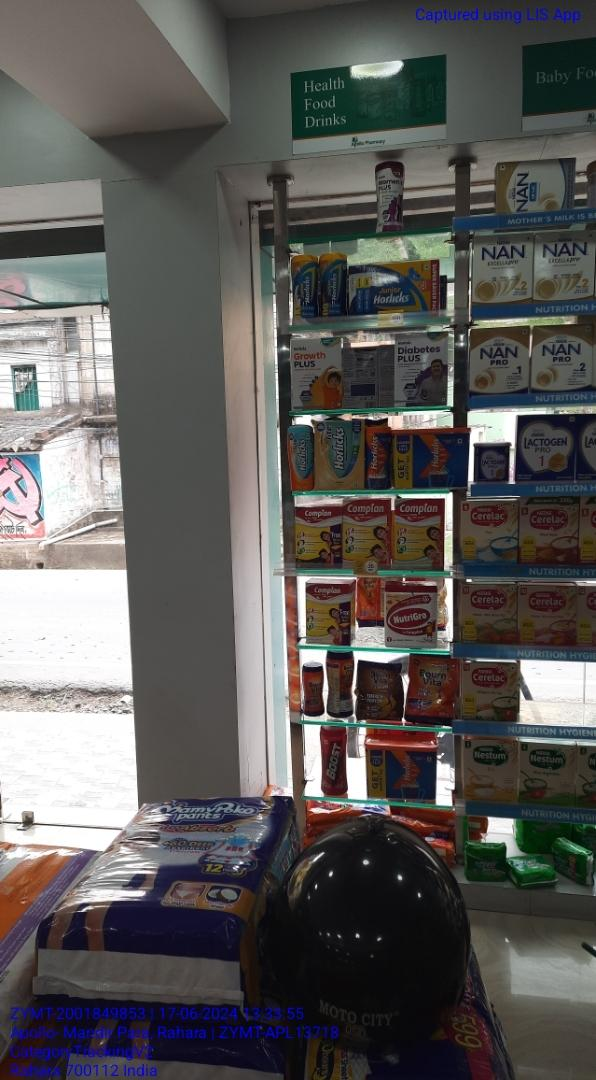BOURN_VITA_200_G_JAR: (303, 663, 324, 716)
BOURN_VITA_500_G_POUCH: (406, 654, 452, 725)
BOURN_VITA_FIVE_STAR_MAGIC_500_G_POUCH: (357, 659, 403, 722)
COMPLAN_CHOCOLATE_500_GMS_PACK: (295, 506, 342, 569)
COMPLAN_CREAMY_CLASSIC_500_G_PACK: (394, 499, 444, 570), (307, 582, 351, 644)
COMPLAN_KESAR_BADAM_500_GMS_PACK: (343, 500, 391, 558)
HORLICKS_JUNIOR_VANILLA_500_GM_JAR: (291, 254, 318, 317), (320, 254, 346, 316)
HORLICKS_LITE_REGULAR_MALT_500_GM_JAR: (288, 424, 312, 490)
HORLICK_CLASSIC_MALT_500_G_JAR: (366, 427, 389, 488)
HORLICK_MALT_1_KG_CONTAINER: (365, 736, 436, 804), (392, 428, 469, 488)
